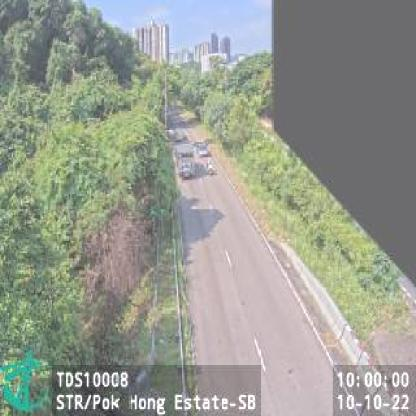Car: (208, 164, 219, 178)
Truck: (174, 142, 195, 180)
